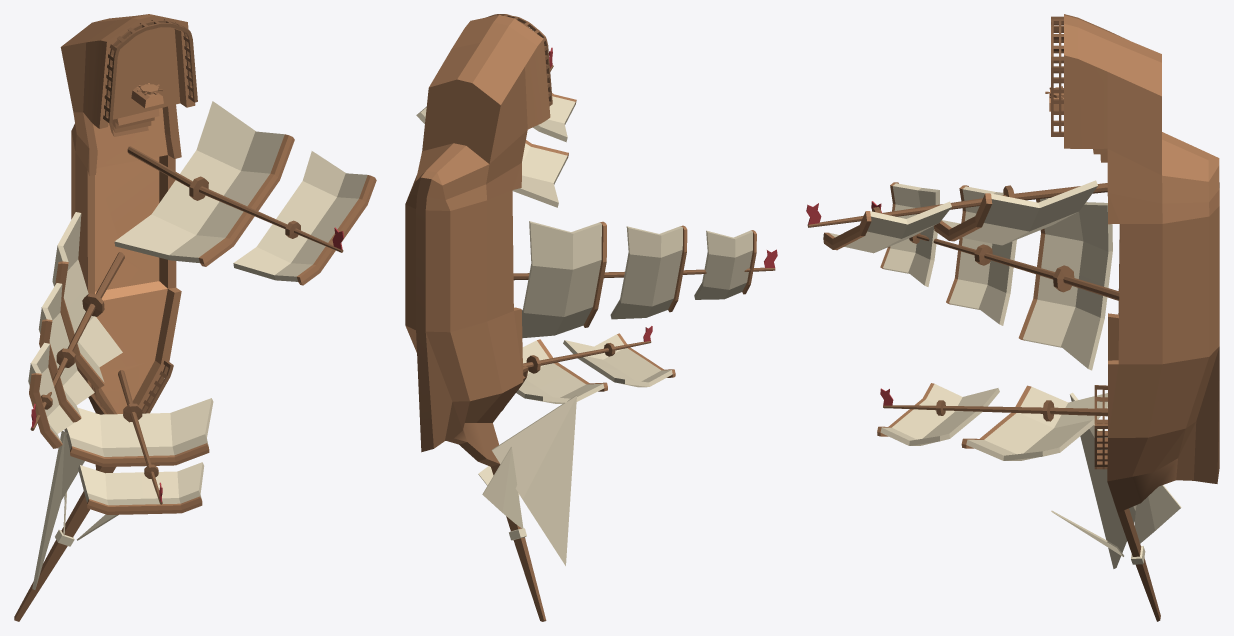
Rendered from Broken Boat.fbx.
3 views of the same model, side by side, from view 1: azimuth 30°, elevation 25°; view 2: azimuth 150°, elevation 25°; view 3: azimuth 270°, elevation 25° (orthographic). The views are drawn at different scales.
Visible parts, largest first — view 1: BigShip, BackSail, Front Sail, MidleSail; view 2: BigShip, MidleSail, Front Sail, BackSail; view 3: BigShip, MidleSail, Front Sail, BackSail.
Boxes of the visible parts, x1,y1,x2,y2 form: BigShip: [14, 14, 343, 621]; BackSail: [114, 101, 376, 285]; Front Sail: [64, 398, 213, 514]; MidleSail: [28, 212, 122, 448]; BigShip: [405, 14, 777, 621]; MidleSail: [522, 221, 756, 338]; Front Sail: [516, 333, 675, 403]; BackSail: [416, 93, 576, 207]; BigShip: [806, 14, 1219, 621]; MidleSail: [880, 182, 1112, 370]; Front Sail: [877, 383, 1107, 460]; BackSail: [823, 180, 1097, 253].
Size of the model in its own units: 357 by 613 by 356.
